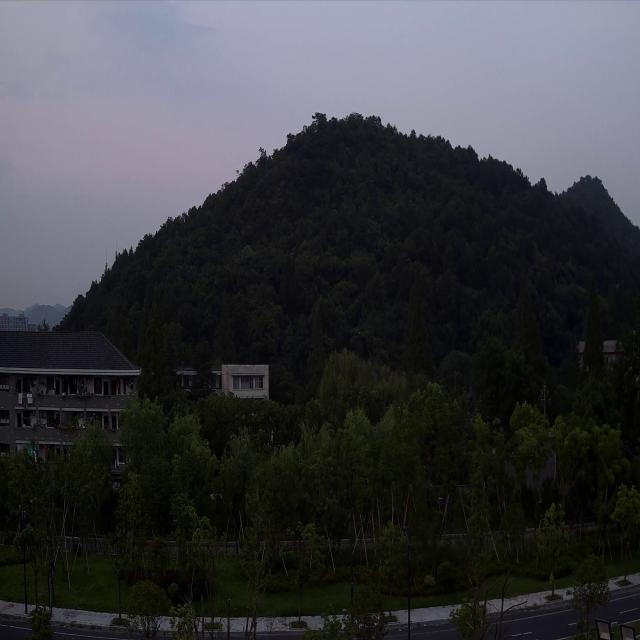drone: (357, 330, 364, 335)
